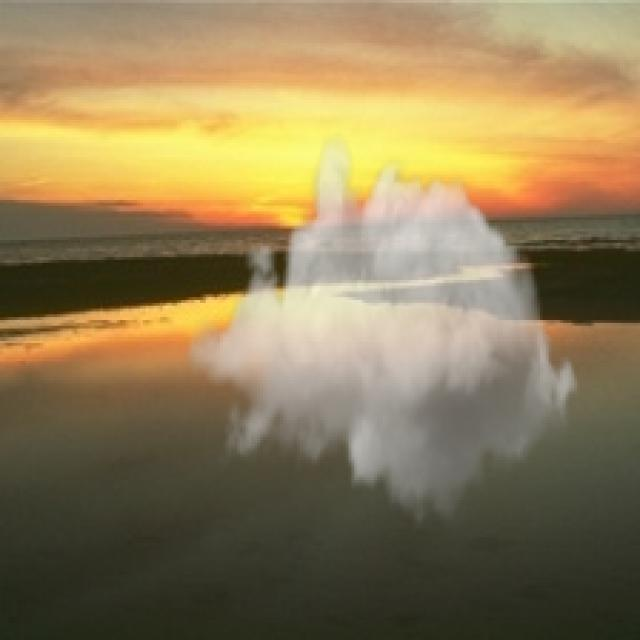Smoke: (186, 132, 583, 532)
